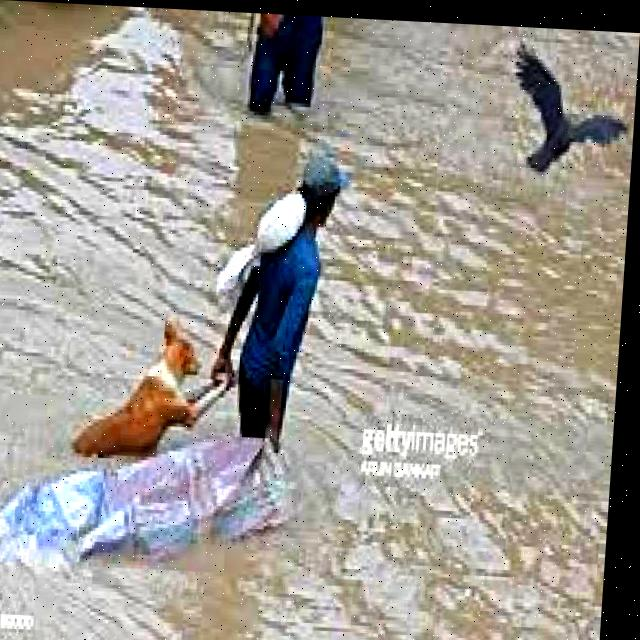civilian: (200, 138, 367, 454)
dog: (64, 299, 253, 475)
